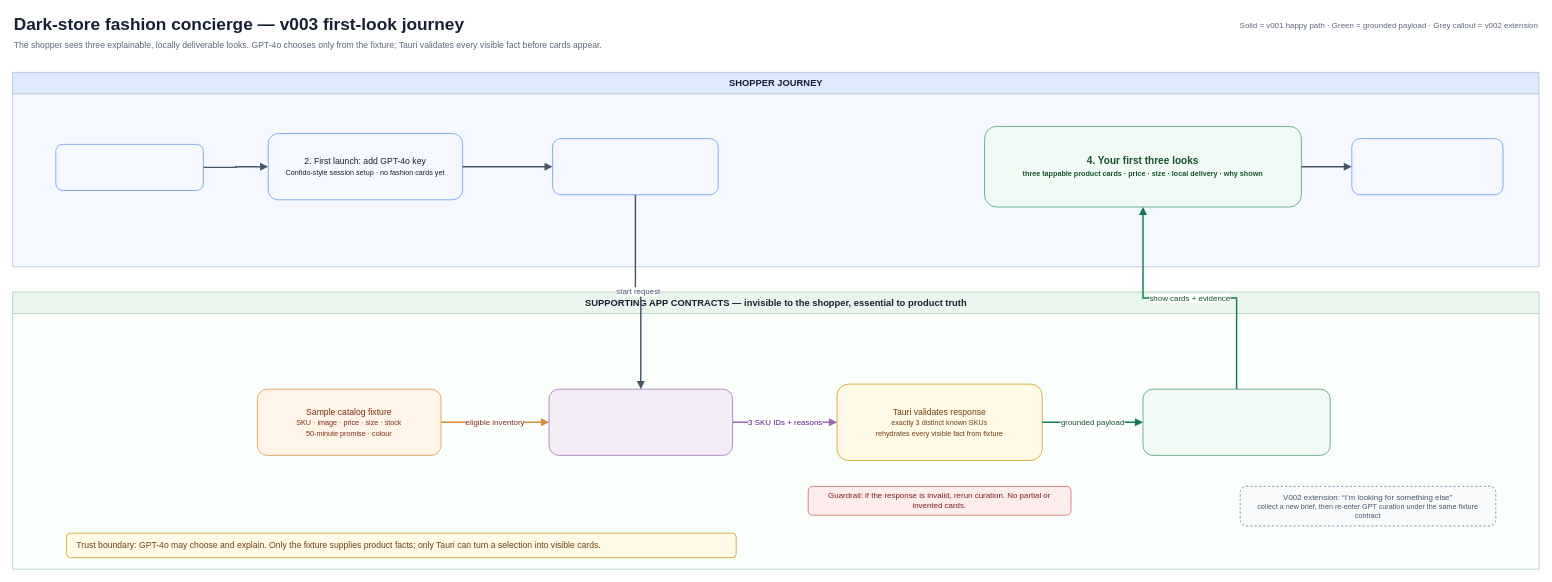
Image size: 1552x582. Some labels were removed from this diagram. The centre of each missing label's shape, as x and y in pixels:
1. Open the local demo: point (129, 167)
3. Start concierge the first shopper-facing action: point (635, 166)
5. Explore a look open the product · ask a question · see factual availability: point (1427, 166)
GPT-4o curates receives fixture facts only returns 3 SKU IDs + reasons: point (640, 421)
Typed HomeLookResponse validated cards + evidence only never raw model JSON: point (1236, 421)
